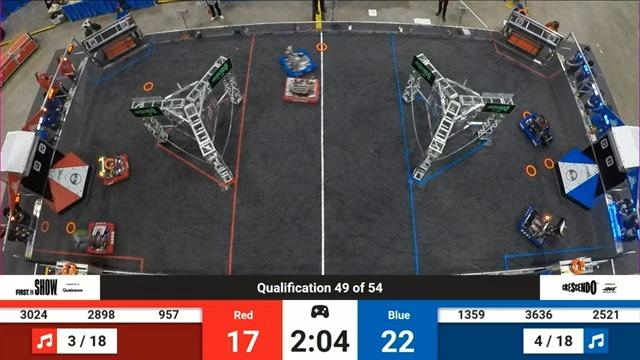robot: (516, 201, 569, 255), (512, 102, 559, 153), (72, 213, 123, 258), (88, 148, 136, 189), (278, 73, 329, 107), (274, 44, 320, 77)
